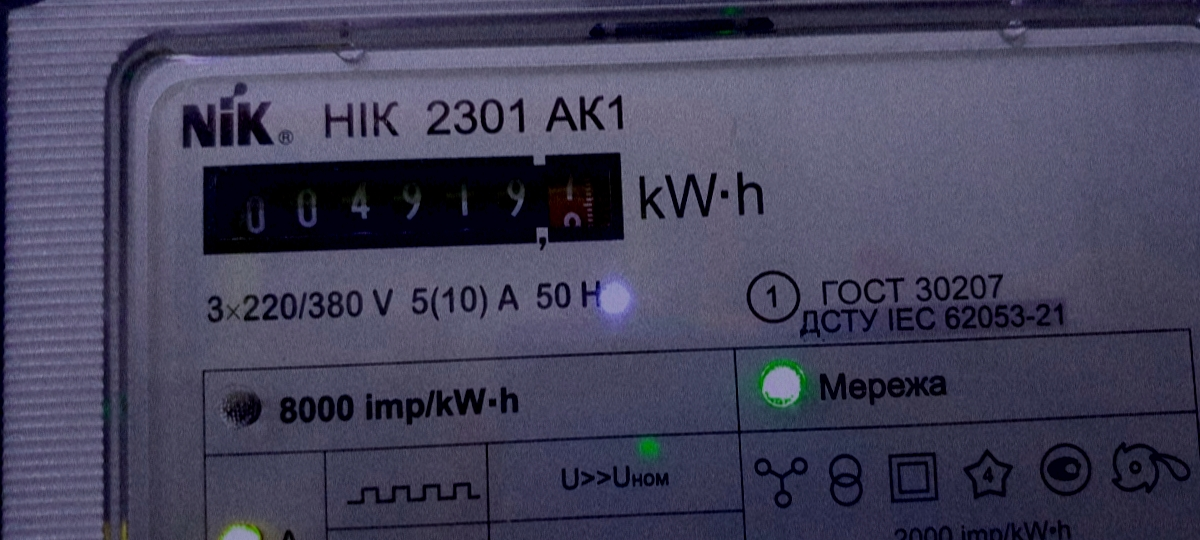0: (292, 183, 320, 229), (241, 190, 267, 235)
1: (454, 172, 471, 218)
4: (345, 176, 371, 220)
7: (555, 162, 580, 202)
9: (502, 173, 527, 220), (398, 178, 423, 222)
screen: (187, 136, 641, 272)
